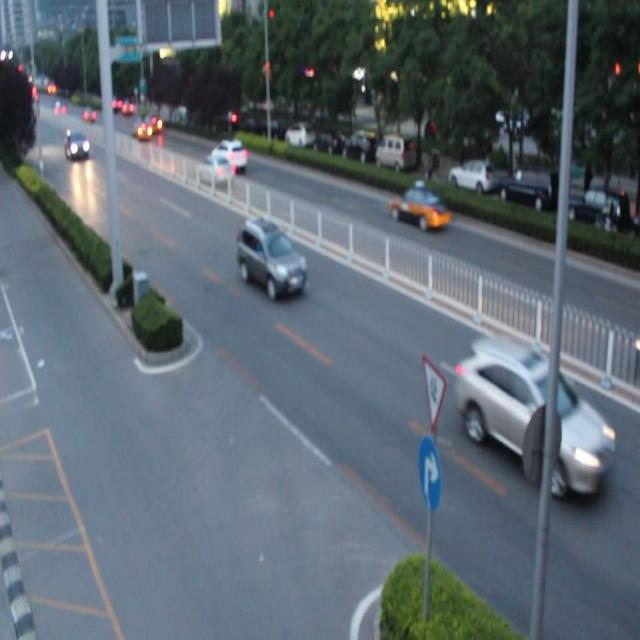car: (460, 341, 602, 495), (238, 220, 304, 294), (390, 189, 447, 231), (209, 139, 246, 173), (196, 154, 233, 186)
